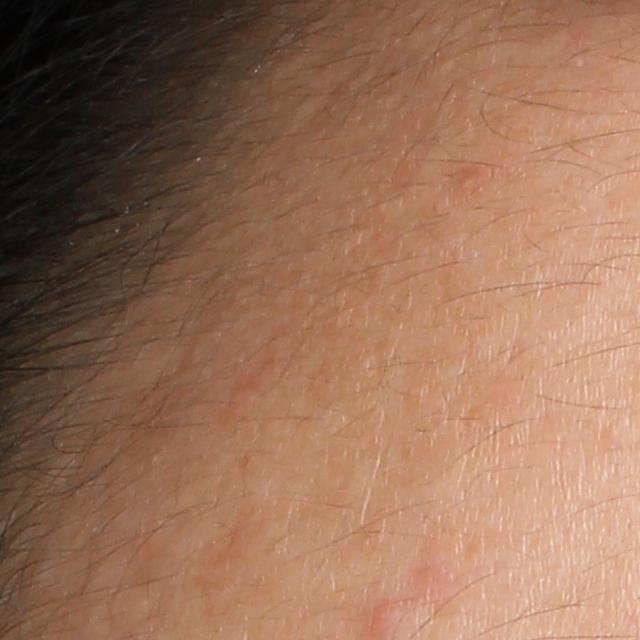papule: (453, 166, 482, 194)
